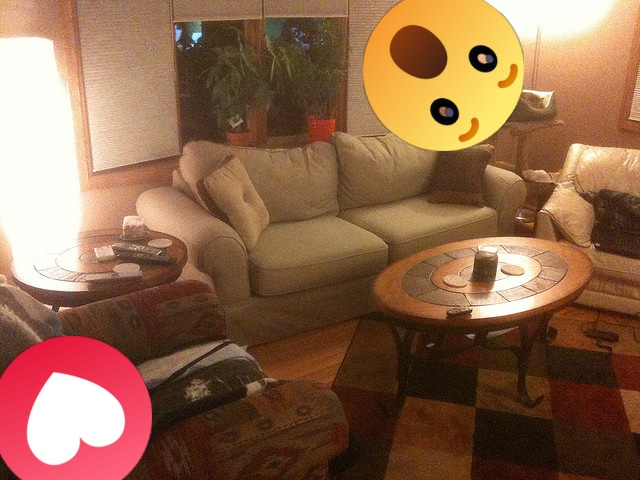love: (0, 336, 152, 480)
wow: (363, 0, 524, 151)
